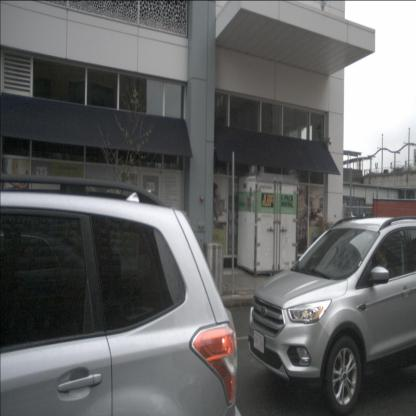vehicle-car: (0, 189, 238, 416), (248, 217, 415, 415)
